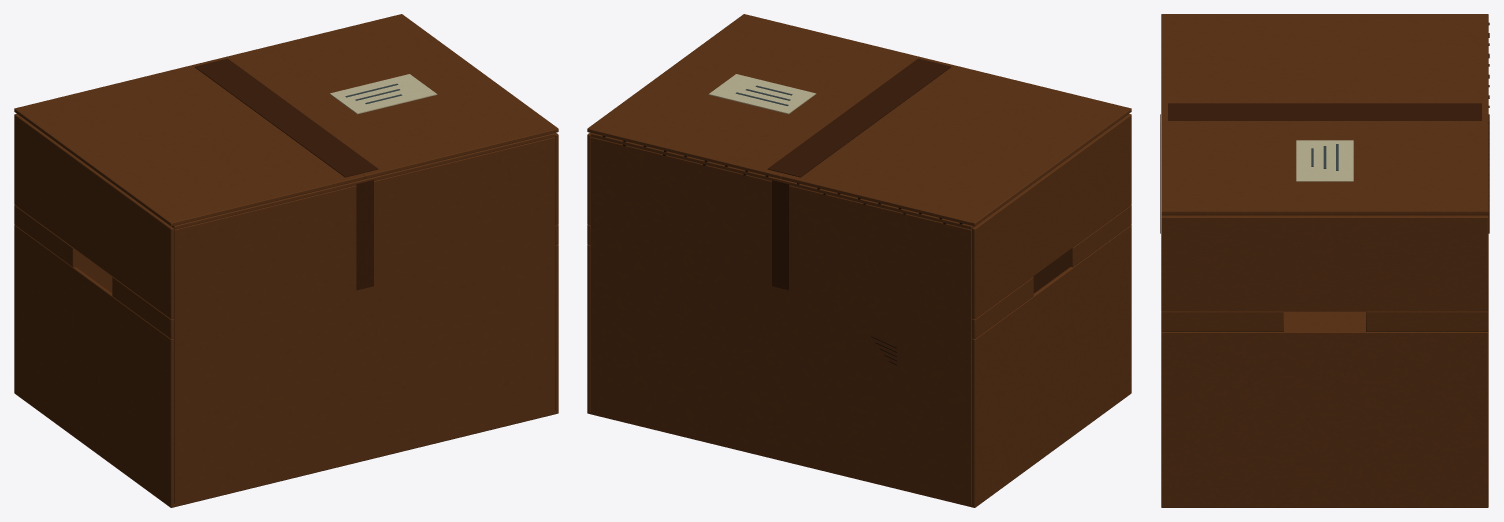
File: DeliveryBoxLarge.fbx
3 renders of one model, left to right at view 1: azimuth 30°, elevation 25°; view 2: azimuth 150°, elevation 25°; view 3: azimuth 270°, elevation 25°, orthographic. The views are drawn at different scales.
Visible parts, largest first — view 1: DeliveryBoxLarge__Body, DeliveryBoxLarge__FlapL, DeliveryBoxLarge__FlapR, DeliveryBoxLarge__FlapB; view 2: DeliveryBoxLarge__Body, DeliveryBoxLarge__FlapL, DeliveryBoxLarge__FlapR, DeliveryBoxLarge__FlapF; view 3: DeliveryBoxLarge__Body, DeliveryBoxLarge__FlapR, DeliveryBoxLarge__FlapL.
Part boxes in pixels (x1,y1,x2,y2): DeliveryBoxLarge__Body: (14, 114, 558, 507); DeliveryBoxLarge__FlapL: (14, 61, 364, 226); DeliveryBoxLarge__FlapR: (208, 14, 558, 178); DeliveryBoxLarge__FlapB: (171, 133, 555, 229); DeliveryBoxLarge__Body: (587, 114, 1131, 507); DeliveryBoxLarge__FlapL: (781, 61, 1131, 226); DeliveryBoxLarge__FlapR: (587, 14, 937, 178); DeliveryBoxLarge__FlapF: (590, 133, 974, 229); DeliveryBoxLarge__Body: (1160, 114, 1489, 507); DeliveryBoxLarge__FlapR: (1161, 111, 1489, 214); DeliveryBoxLarge__FlapL: (1161, 14, 1489, 112).
Bounding box in the file's own units: 95.2 × 67.2 × 67.2.
Materials: 1 (1 with a texture image).
